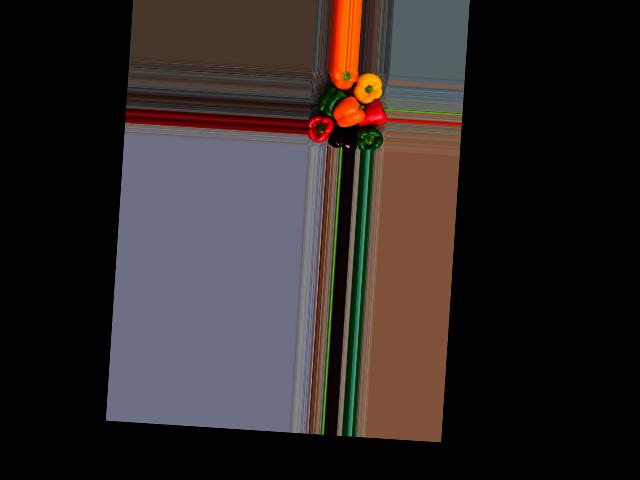bell_pepper: (319, 69, 357, 97)
